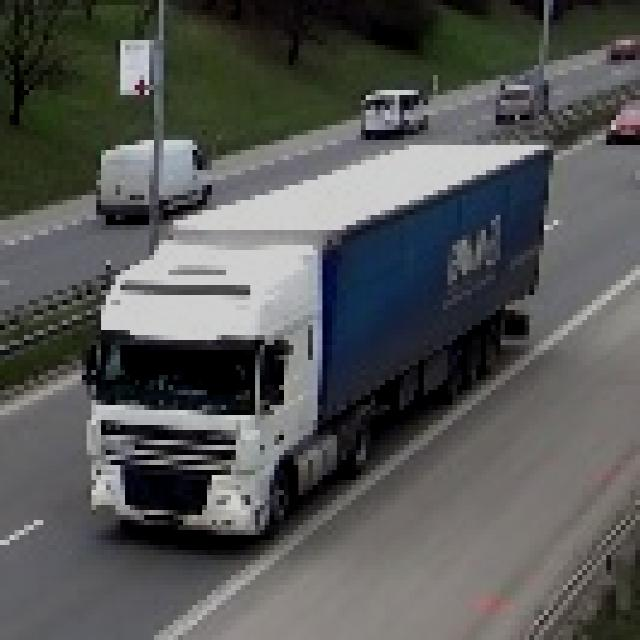TRUCK: (83, 142, 550, 546), (94, 140, 215, 226)
